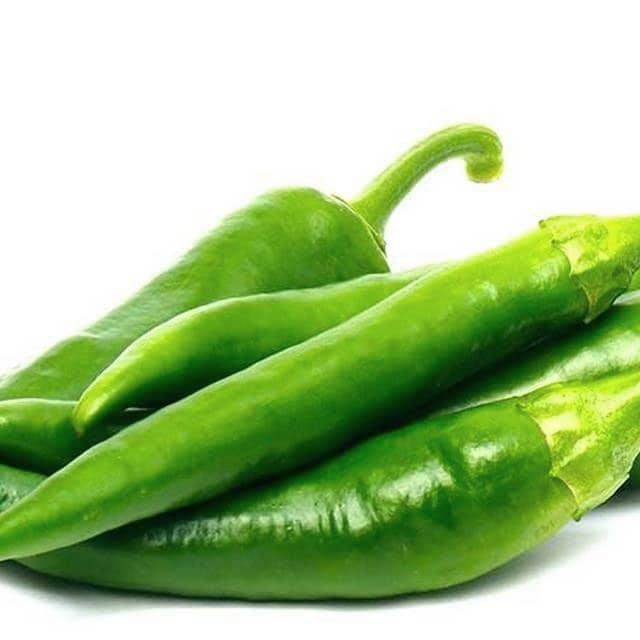chili_pepper: (0, 214, 640, 563), (23, 401, 576, 600), (0, 188, 388, 401), (72, 268, 430, 434)
